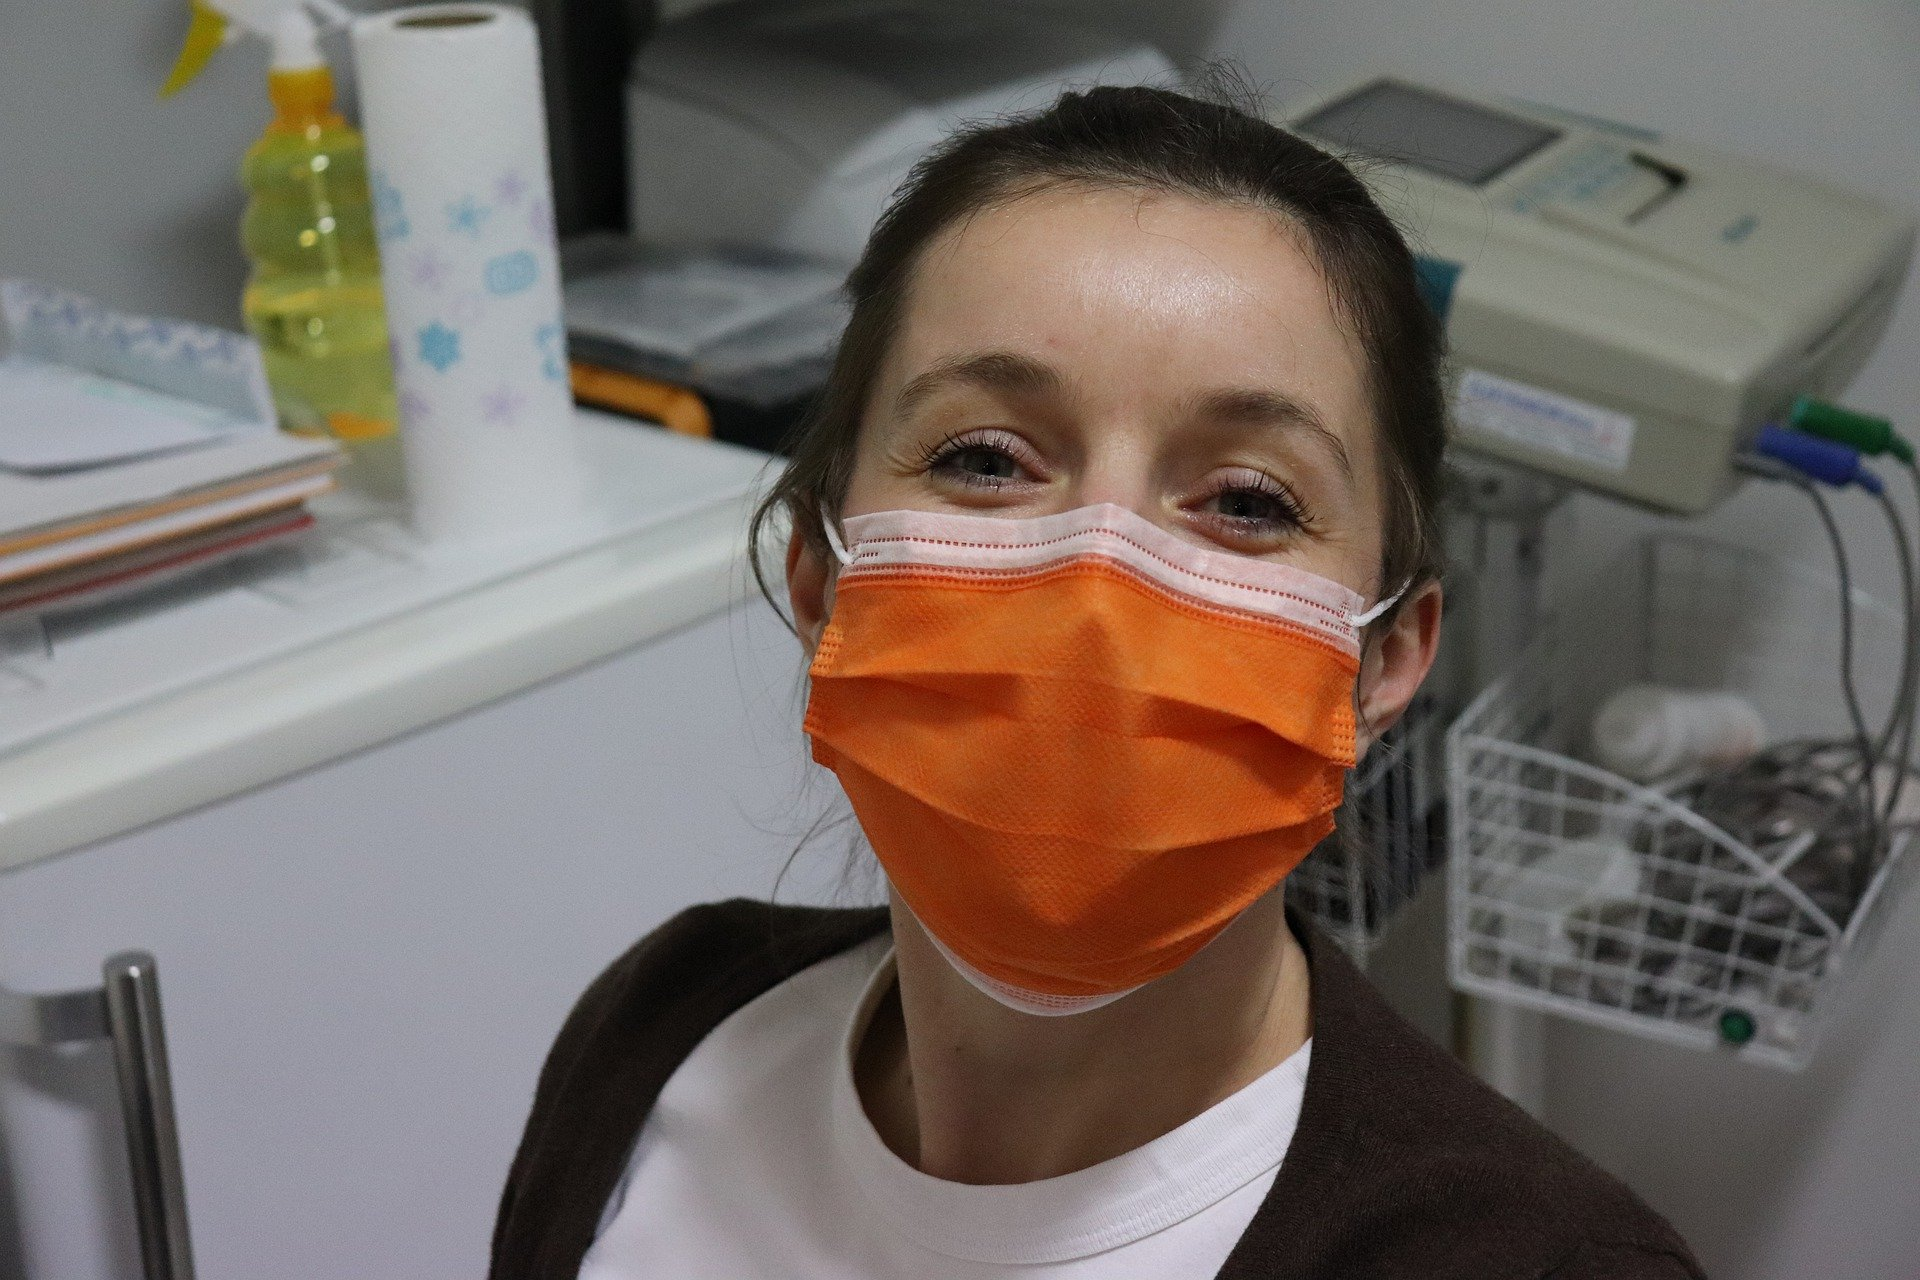with_mask: (864, 329, 1344, 851)
